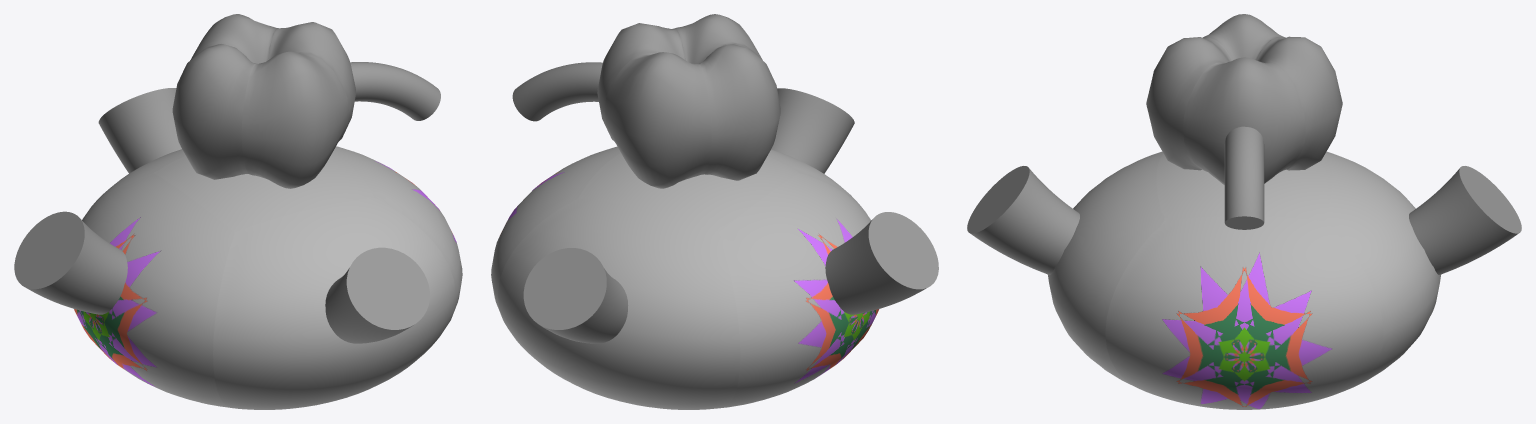
The picture shows the model from 3 angles, left to right: view 1: azimuth 30°, elevation 25°; view 2: azimuth 150°, elevation 25°; view 3: azimuth 270°, elevation 25°; orthographic projection.
Parts seen in each view (by area): view 1: Box001, Box002, Cone004, Cone002, Cone003, Cone001; view 2: Box001, Box002, Cone004, Cone003, Cone002, Cone001; view 3: Box001, Box002, Cone003, Cone002, Cone001.
Boxes of the visible parts, x1,y1,x2,y2 form: Box001: (74,146,462,409); Box002: (172,14,355,188); Cone004: (14,211,127,314); Cone002: (325,247,429,343); Cone003: (98,88,181,173); Cone001: (350,62,440,120); Box001: (491,146,879,409); Box002: (597,14,780,188); Cone004: (825,212,938,314); Cone003: (523,248,628,343); Cone002: (771,88,854,173); Cone001: (512,62,602,121); Box001: (1047,151,1441,409); Box002: (1146,14,1342,184); Cone003: (1409,166,1521,274); Cone002: (967,166,1079,274); Cone001: (1224,126,1264,229).
Bounding box in the file's own units: 48.37 × 38.44 × 56.4.
Materials: 2 (1 with a texture image).
